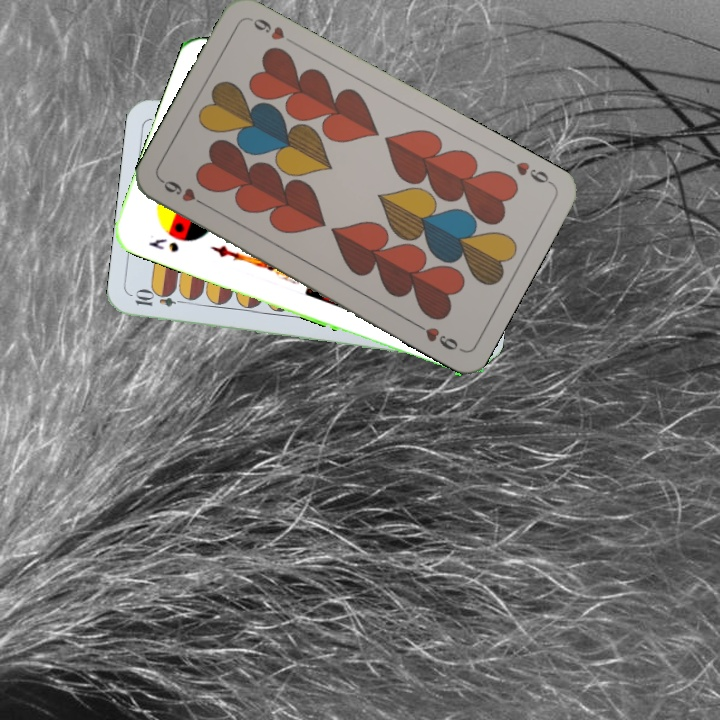E10: (131, 289, 190, 310)
H9: (157, 175, 212, 211), (501, 153, 555, 188)
SK: (144, 234, 182, 255)
